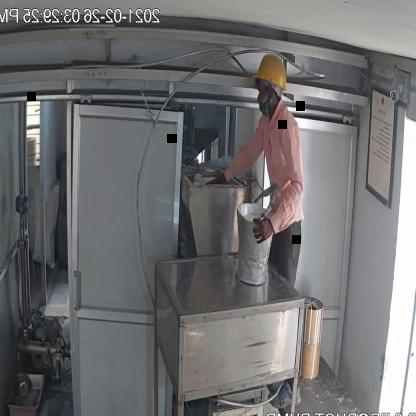helmet: (249, 54, 289, 92)
